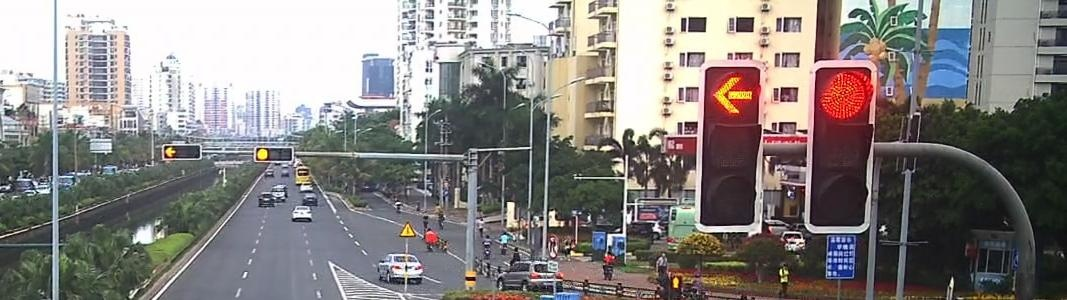red: (815, 67, 872, 119), (256, 148, 270, 161)
redleft: (709, 69, 756, 119), (161, 147, 176, 160)
redpeople: (669, 273, 682, 290)
